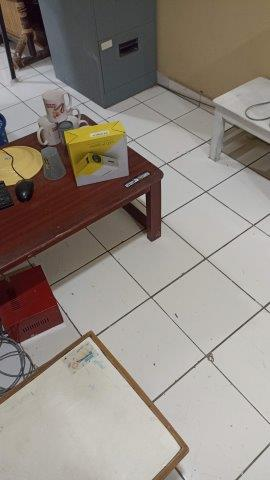kardus: (64, 121, 129, 185)
